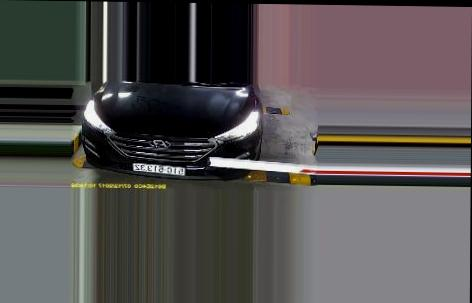License_Plate: (134, 162, 186, 178)
